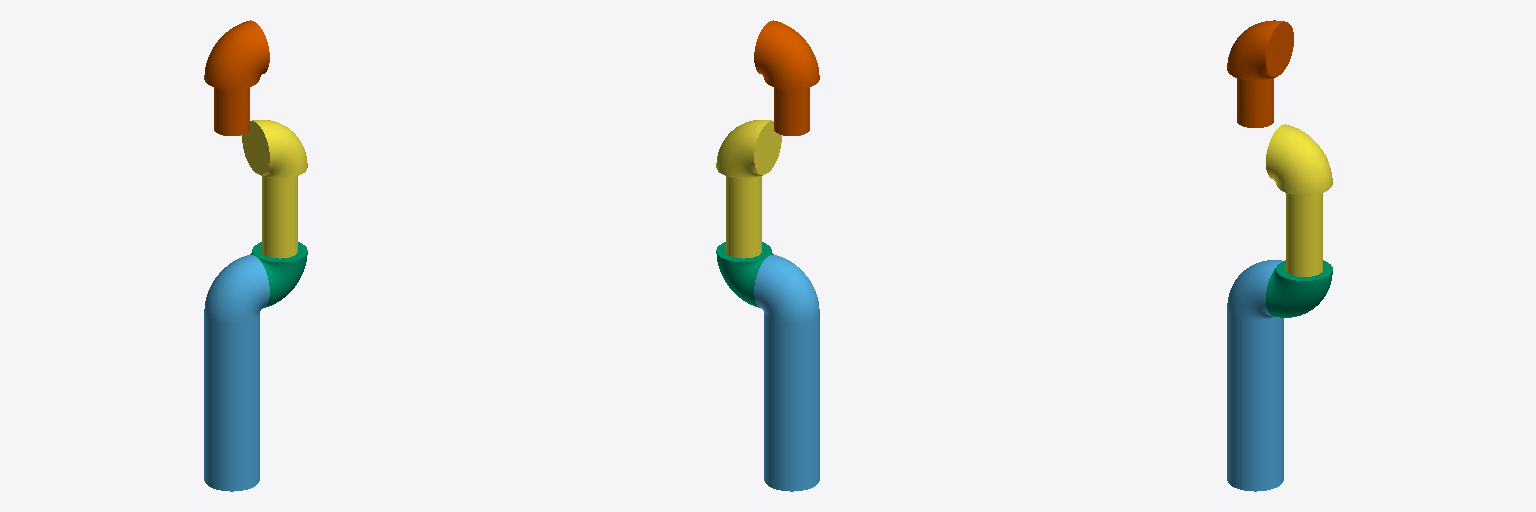
URDF robot description (test_robot):
<?xml version="1.0" ?>
<robot name="test_robot">
	<link name="world"/>
	<joint name="world_joint" type="fixed">
		<parent link="world"/>
		<child link="base_link"/>
		<origin xyz="0.0 0.0 0.0" rpy="0.0 0.0 0.0"/>
		<axis xyz="0 0 1"/>
		<limit effort="100.0" lower="-3.141592653589793" upper="3.141592653589793" velocity="1.0"/>
		<dynamics damping="0.0" friction="0.0"/>
	</joint>
	<link name="base_link">
		<visual>
			<geometry>
				<mesh filename="mesh/base_link.stl"/>
			</geometry>
		</visual>
		<collision>
			<geometry>
				<mesh filename="mesh/base_link.stl"/>
			</geometry>
		</collision>
		<inertial>
			<mass value="1.0"/>
			<inertia ixx="0.0" ixy="0.0" ixz="0.0" iyy="0.0" iyz="0.0" izz="0.0"/>
		</inertial>
	</link>
	<link name="link_1">
		<visual>
			<geometry>
				<mesh filename="mesh/link_1.stl"/>
			</geometry>
		</visual>
		<collision>
			<geometry>
				<mesh filename="mesh/link_1.stl"/>
			</geometry>
		</collision>
		<inertial>
			<mass value="1.0"/>
			<inertia ixx="0.0" ixy="0.0" ixz="0.0" iyy="0.0" iyz="0.0" izz="0.0"/>
		</inertial>
	</link>
	<joint name="joint_0" type="revolute">
		<parent link="base_link"/>
		<child link="link_1"/>
		<origin xyz="1.5 0.0 11.5" rpy="0.0 1.5707963267948966 0.0"/>
		<axis xyz="0 0 1"/>
		<limit effort="100.0" lower="-3.141592653589793" upper="3.141592653589793" velocity="1.0"/>
		<dynamics damping="0.0" friction="0.0"/>
	</joint>
	<link name="link_2">
		<visual>
			<geometry>
				<mesh filename="mesh/link_2.stl"/>
			</geometry>
		</visual>
		<collision>
			<geometry>
				<mesh filename="mesh/link_2.stl"/>
			</geometry>
		</collision>
		<inertial>
			<mass value="1.0"/>
			<inertia ixx="0.0" ixy="0.0" ixz="0.0" iyy="0.0" iyz="0.0" izz="0.0"/>
		</inertial>
	</link>
	<joint name="joint_1" type="revolute">
		<parent link="link_1"/>
		<child link="link_2"/>
		<origin xyz="-1.5 1.8369701987210297e-16 1.5" rpy="0.0 1.5707963267948966 3.141592653589793"/>
		<axis xyz="0 0 1"/>
		<limit effort="100.0" lower="-3.141592653589793" upper="3.141592653589793" velocity="1.0"/>
		<dynamics damping="0.0" friction="0.0"/>
	</joint>
	<link name="link_3">
		<visual>
			<geometry>
				<mesh filename="mesh/link_3.stl"/>
			</geometry>
		</visual>
		<collision>
			<geometry>
				<mesh filename="mesh/link_3.stl"/>
			</geometry>
		</collision>
		<inertial>
			<mass value="1.0"/>
			<inertia ixx="0.0" ixy="0.0" ixz="0.0" iyy="0.0" iyz="0.0" izz="0.0"/>
		</inertial>
	</link>
	<joint name="joint_2" type="revolute">
		<parent link="link_2"/>
		<child link="link_3"/>
		<origin xyz="1.5 0.0 6.5" rpy="0.0 1.5707963267948966 0.0"/>
		<axis xyz="0 0 1"/>
		<limit effort="100.0" lower="-3.141592653589793" upper="3.141592653589793" velocity="1.0"/>
		<dynamics damping="0.0" friction="0.0"/>
	</joint>
	<link name="link_4">
		<visual>
			<geometry>
				<mesh filename="mesh/link_4.stl"/>
			</geometry>
		</visual>
		<collision>
			<geometry>
				<mesh filename="mesh/link_4.stl"/>
			</geometry>
		</collision>
		<inertial>
			<mass value="1.0"/>
			<inertia ixx="0.0" ixy="0.0" ixz="0.0" iyy="0.0" iyz="0.0" izz="0.0"/>
		</inertial>
	</link>
	<joint name="joint_3" type="revolute">
		<parent link="link_3"/>
		<child link="link_4"/>
		<origin xyz="-1.5 1.8369701987210297e-16 1.5" rpy="0.0 1.5707963267948966 3.141592653589793"/>
		<axis xyz="0 0 1"/>
		<limit effort="100.0" lower="-3.141592653589793" upper="3.141592653589793" velocity="1.0"/>
		<dynamics damping="0.0" friction="0.0"/>
	</joint>
	<link name="link_5">
		<visual>
			<geometry>
				<mesh filename="mesh/link_5.stl"/>
			</geometry>
		</visual>
		<collision>
			<geometry>
				<mesh filename="mesh/link_5.stl"/>
			</geometry>
		</collision>
		<inertial>
			<mass value="1.0"/>
			<inertia ixx="0.0" ixy="0.0" ixz="0.0" iyy="0.0" iyz="0.0" izz="0.0"/>
		</inertial>
	</link>
	<joint name="joint_4" type="revolute">
		<parent link="link_4"/>
		<child link="link_5"/>
		<origin xyz="1.5 0.0 4.5" rpy="0.0 1.5707963267948966 0.0"/>
		<axis xyz="0 0 1"/>
		<limit effort="100.0" lower="-3.141592653589793" upper="3.141592653589793" velocity="1.0"/>
		<dynamics damping="0.0" friction="0.0"/>
	</joint>
	<link name="link_6">
		<visual>
			<geometry>
				<mesh filename="mesh/link_6.stl"/>
			</geometry>
		</visual>
		<collision>
			<geometry>
				<mesh filename="mesh/link_6.stl"/>
			</geometry>
		</collision>
		<inertial>
			<mass value="1.0"/>
			<inertia ixx="0.0" ixy="0.0" ixz="0.0" iyy="0.0" iyz="0.0" izz="0.0"/>
		</inertial>
	</link>
	<joint name="joint_5" type="revolute">
		<parent link="link_5"/>
		<child link="link_6"/>
		<origin xyz="-1.5 1.8369701987210297e-16 1.5" rpy="0.0 1.5707963267948966 3.141592653589793"/>
		<axis xyz="0 0 1"/>
		<limit effort="100.0" lower="-3.141592653589793" upper="3.141592653589793" velocity="1.0"/>
		<dynamics damping="0.0" friction="0.0"/>
	</joint>
</robot>

--- Render facts (derived) ---
3 views of the same robot in one strip: view 1: azimuth 30°, elevation 25°; view 2: azimuth 150°, elevation 25°; view 3: azimuth 330°, elevation 25° (orthographic).
Robot: test_robot — 8 links, 7 joints (6 revolute, 1 fixed); root link world; default pose: all joints at 0.
Links seen in each view (by area): view 1: base_link, link_2, link_4, link_1; view 2: base_link, link_2, link_4, link_1; view 3: base_link, link_2, link_4, link_1.
Link boxes in pixels (left/top/right/bottom): base_link: left=204, top=255, right=269, bottom=491; link_2: left=242, top=120, right=307, bottom=258; link_4: left=204, top=20, right=269, bottom=135; link_1: left=250, top=242, right=307, bottom=307; base_link: left=754, top=255, right=819, bottom=491; link_2: left=716, top=120, right=781, bottom=258; link_4: left=754, top=20, right=819, bottom=135; link_1: left=716, top=242, right=773, bottom=307; base_link: left=1227, top=260, right=1283, bottom=491; link_2: left=1266, top=124, right=1332, bottom=276; link_4: left=1227, top=20, right=1293, bottom=127; link_1: left=1266, top=260, right=1332, bottom=317.
Size in the robot's own frame: 6 by 3 by 27 metres.
Meshes: 7 distinct files referenced, 4 mesh visuals loaded (4 binary STL); not drawn: 3 (reference not matched to a file when rendering).